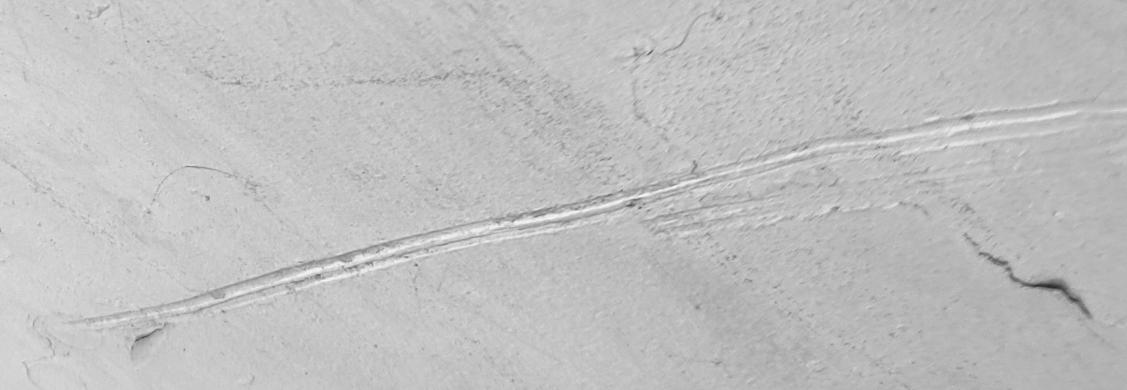scratch: (1, 1, 1127, 390)
